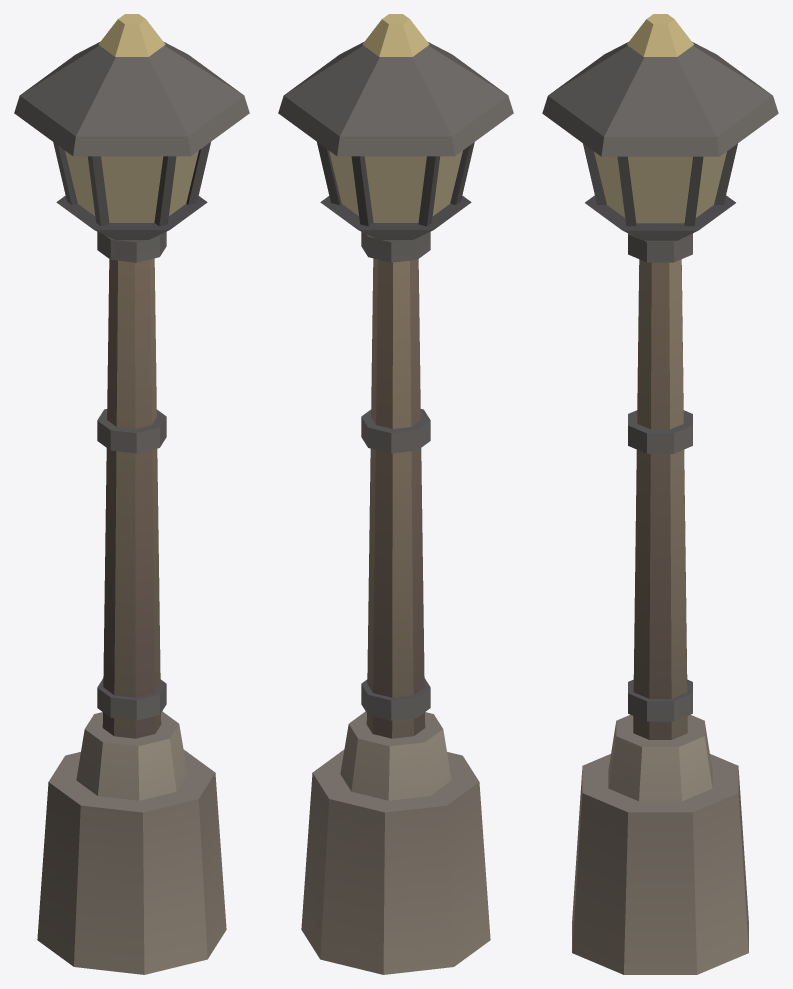
Rendered from lantern.glb.
3 views of the same model, side by side, from view 1: azimuth 30°, elevation 25°; view 2: azimuth 150°, elevation 25°; view 3: azimuth 270°, elevation 25° (orthographic).
Bounding box in the file's own units: 0.7275 × 3.6 × 0.84.
